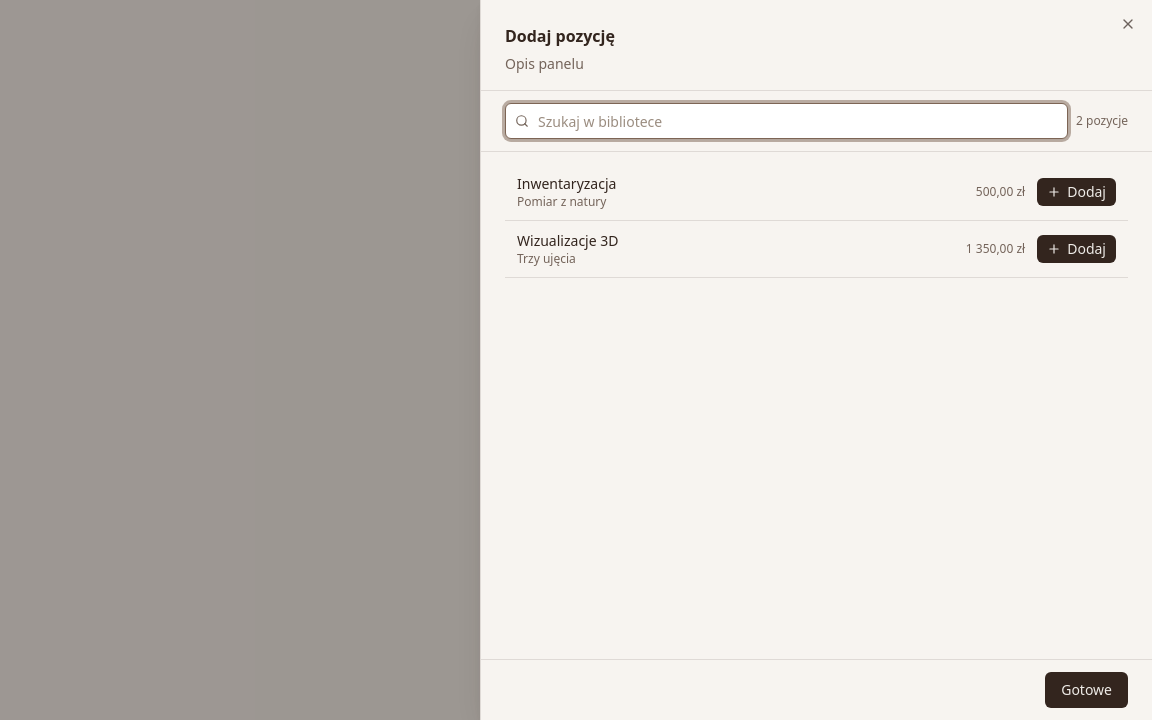
Scenario: LibraryPickerSheet › liczy, ile już dodano — także tę samą pozycję dwa razy
Click the button with aria-label "Dodaj: Inwentaryzacja" at (1077, 192), box top-left (1037, 178), bottom-right (1116, 206)
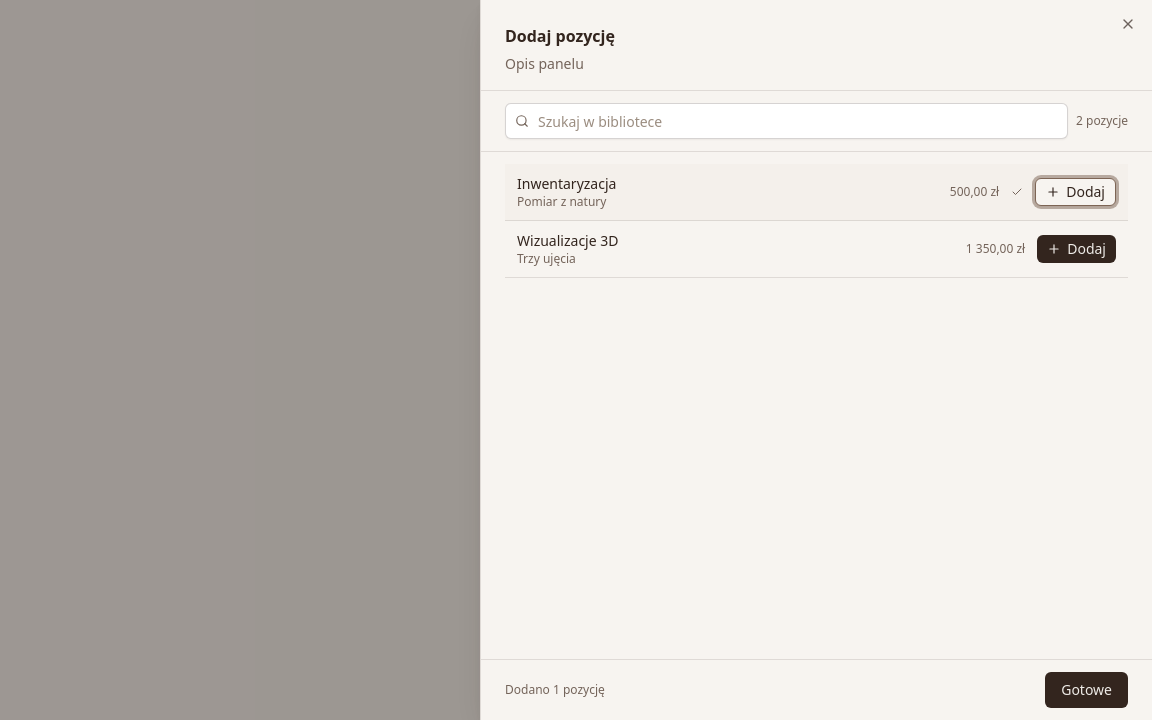
Click the button with aria-label "Dodaj: Inwentaryzacja" at (1076, 192), box top-left (1035, 178), bottom-right (1116, 206)
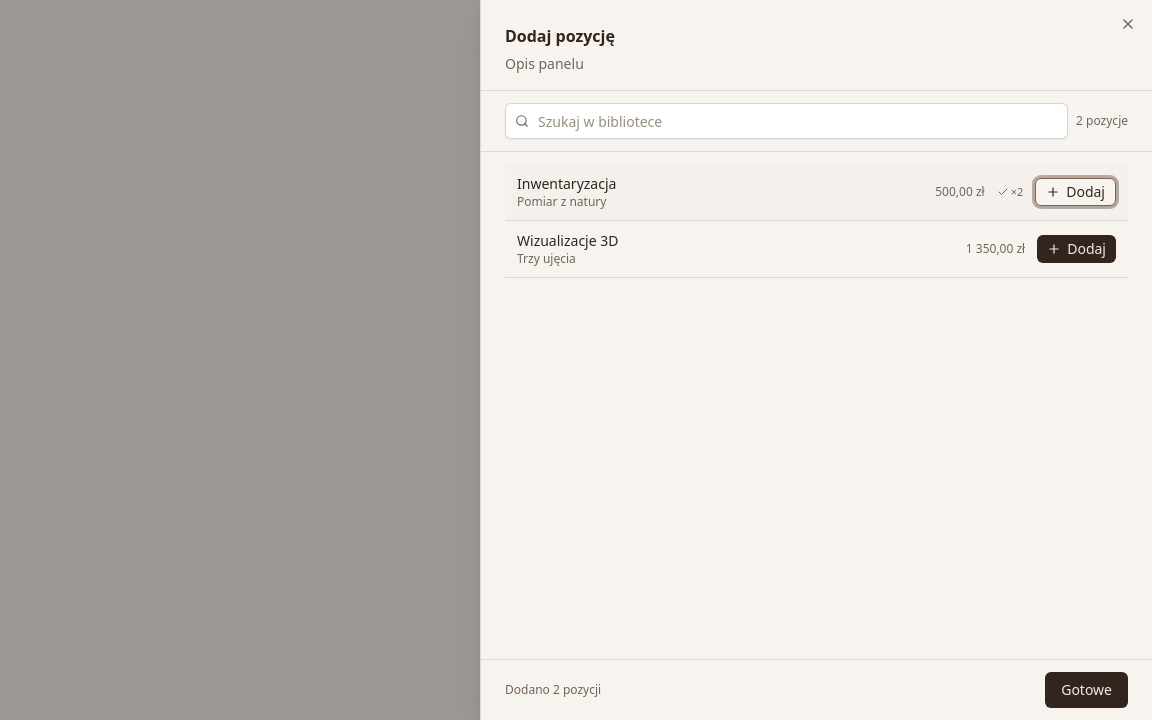
Expected: the text "×2" is shown, top-left (997, 184), bottom-right (1023, 200)
